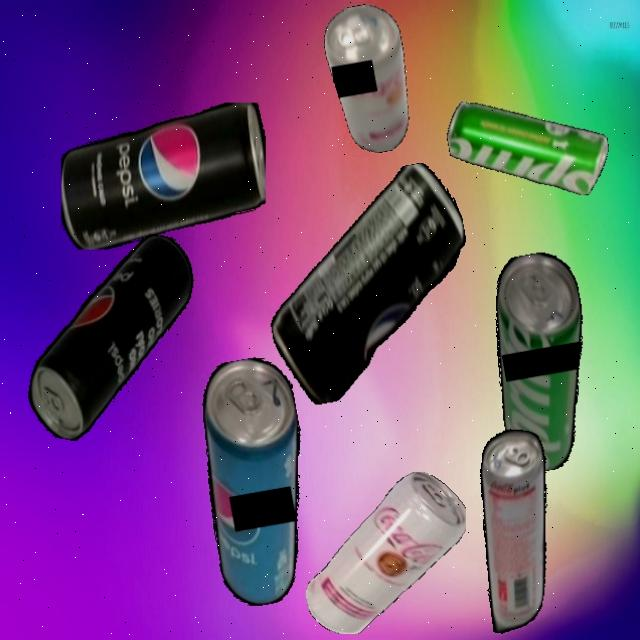debris: (249, 158, 489, 410), (22, 218, 200, 456), (186, 352, 329, 611), (60, 102, 266, 250), (477, 248, 608, 476), (305, 471, 466, 634), (453, 424, 570, 639), (442, 78, 616, 216), (319, 0, 420, 158)
